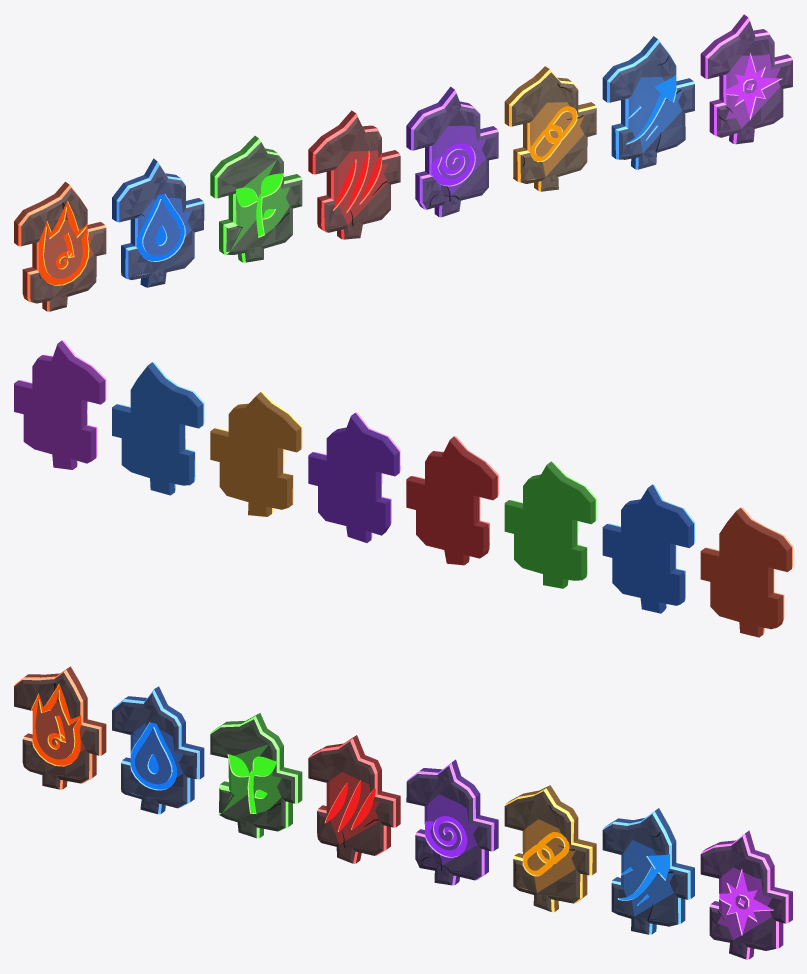
Rendered from runas_v2_acesas.glb.
The picture shows the model from 3 angles, top to bottom: view 1: azimuth 30°, elevation 25°; view 2: azimuth 150°, elevation 25°; view 3: azimuth 330°, elevation 25°; orthographic projection.
Visible parts, largest first — view 1: Runa_arremesso_acesa, Runa_quebrar_acesa, Runa_fogo_acesa, Runa_feroz_acesa, Runa_gravitacao_acesa, Runa_prende_acesa, Runa_agua_acesa, Runa_vida_acesa; view 2: Runa_arremesso_acesa, Runa_fogo_acesa, Runa_quebrar_acesa, Runa_feroz_acesa, Runa_gravitacao_acesa, Runa_agua_acesa, Runa_prende_acesa, Runa_vida_acesa; view 3: Runa_arremesso_acesa, Runa_prende_acesa, Runa_quebrar_acesa, Runa_fogo_acesa, Runa_gravitacao_acesa, Runa_feroz_acesa, Runa_agua_acesa, Runa_vida_acesa.
Part boxes in pixels (x1,y1,x2,y2): Runa_arremesso_acesa: (602,36,694,169); Runa_quebrar_acesa: (700,14,792,144); Runa_fogo_acesa: (14,181,106,311); Runa_feroz_acesa: (308,110,400,239); Runa_gravitacao_acesa: (406,86,498,217); Runa_prende_acesa: (504,66,596,191); Runa_agua_acesa: (112,158,204,287); Runa_vida_acesa: (210,136,302,262); Runa_arremesso_acesa: (112,362,204,495); Runa_fogo_acesa: (700,507,792,637); Runa_quebrar_acesa: (14,340,106,469); Runa_feroz_acesa: (406,436,498,565); Runa_gravitacao_acesa: (308,412,400,542); Runa_agua_acesa: (602,484,694,613); Runa_prende_acesa: (210,392,302,516); Runa_vida_acesa: (504,461,596,588); Runa_arremesso_acesa: (602,808,694,934); Runa_prende_acesa: (504,785,596,912); Runa_quebrar_acesa: (700,830,792,959); Runa_fogo_acesa: (14,666,106,789); Runa_gravitacao_acesa: (406,759,498,885); Runa_feroz_acesa: (308,735,400,863); Runa_agua_acesa: (112,686,204,814); Runa_vida_acesa: (210,713,302,838).
Size of the model in its own units: 3.15 by 0.4891 by 0.0524.
